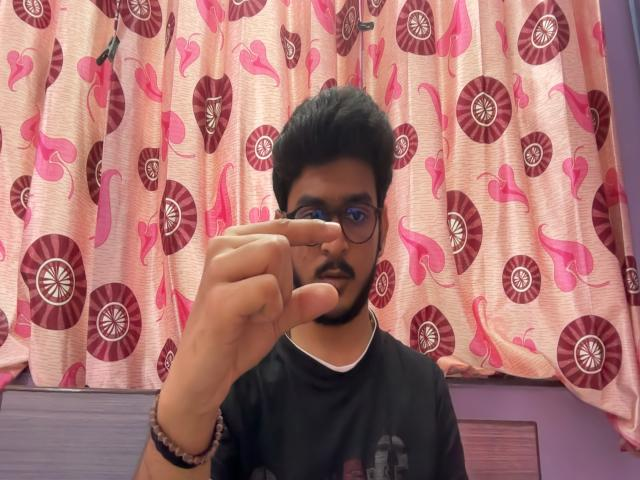No: (163, 207, 353, 405)
